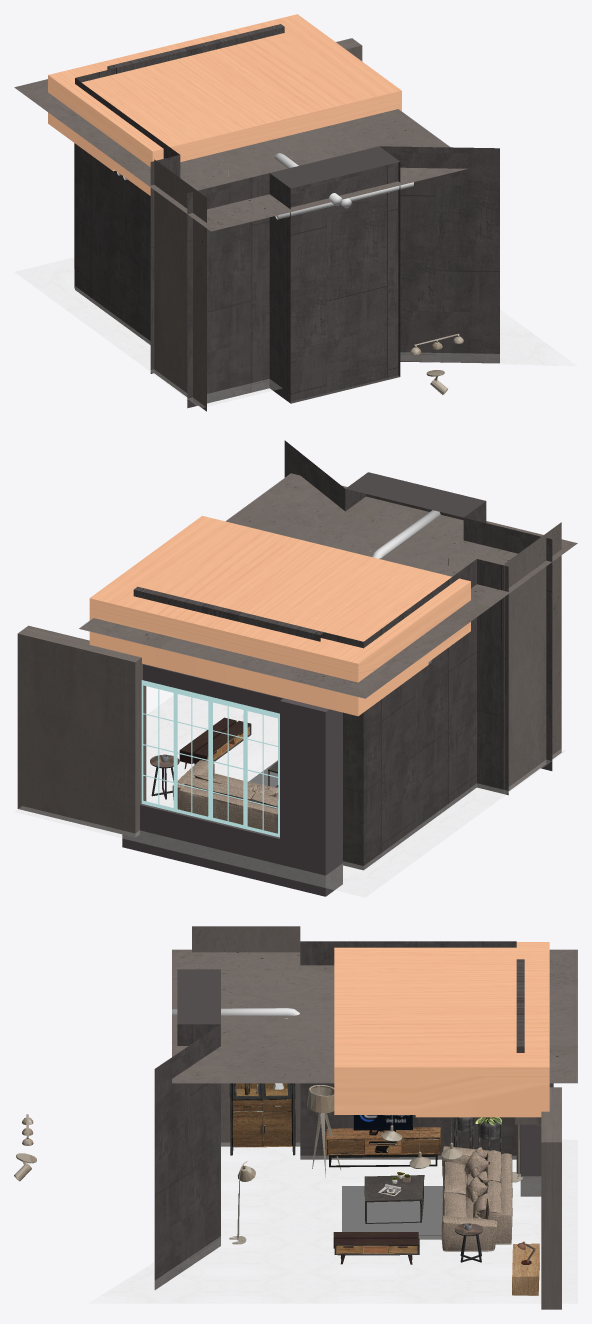
The model's file is luxury-living-room.glb.
3 renders of one model, top to bottom at view 1: azimuth 30°, elevation 25°; view 2: azimuth 150°, elevation 25°; view 3: azimuth 270°, elevation 25°, orthographic. The views are drawn at different scales.
Parts seen in each view (by area): view 1: Plane001_Material001_0, Cube002_Material008_0, Cube003_Material002_0, object 6, Cylinder_Material010_0, material003_Material012_0; view 2: Cube003_Material002_0, Cube002_Material008_0, Plane001_Material001_0, Cube_Material003_0, object 6, object 12, material_Material004_0, material002_Material011_0, Cylinder_Material010_0; view 3: object 6, Cube002_Material008_0, Cube003_Material002_0, Plane001_Material001_0, material_Material004_0, material001_Material009_0, Cube001_Material006_0, material002_Material011_0, material003_Material012_0, Cube_Material003_0, Cylinder_Material010_0.
Part boxes in pixels (x1=…): Plane001_Material001_0: x1=75, y1=24, x2=499, y2=408; Cube002_Material008_0: x1=48, y1=14, x2=401, y2=195; Cube003_Material002_0: x1=14, y1=38, x2=467, y2=411; object 6: x1=15, y1=257, x2=575, y2=407; Cylinder_Material010_0: x1=117, y1=153, x2=413, y2=219; material003_Material012_0: x1=228, y1=170, x2=463, y2=394; Cube003_Material002_0: x1=17, y1=473, x2=577, y2=837; Cube002_Material008_0: x1=89, y1=515, x2=470, y2=716; Plane001_Material001_0: x1=133, y1=440, x2=552, y2=870; Cube_Material003_0: x1=122, y1=664, x2=342, y2=896; object 6: x1=15, y1=694, x2=565, y2=897; object 12: x1=141, y1=680, x2=279, y2=837; material_Material004_0: x1=172, y1=760, x2=278, y2=833; material002_Material011_0: x1=150, y1=717, x2=251, y2=799; Cylinder_Material010_0: x1=370, y1=510, x2=440, y2=663; object 6: x1=89, y1=1140, x2=577, y2=1303; Cube002_Material008_0: x1=334, y1=942, x2=549, y2=1117; Cube003_Material002_0: x1=172, y1=926, x2=577, y2=1309; Plane001_Material001_0: x1=154, y1=941, x2=524, y2=1289; material_Material004_0: x1=364, y1=1146, x2=539, y2=1295; material001_Material009_0: x1=229, y1=1083, x2=440, y2=1167; Cube001_Material006_0: x1=342, y1=1186, x2=442, y2=1239; material002_Material011_0: x1=333, y1=1117, x2=501, y2=1264; material003_Material012_0: x1=14, y1=979, x2=522, y2=1244; Cube_Material003_0: x1=520, y1=1083, x2=553, y2=1196; Cylinder_Material010_0: x1=172, y1=1008, x2=299, y2=1018.
Bounding box in the file's own units: 37.82 × 25.12 × 54.29.
19 materials, 18 textured.
